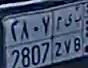0: (30, 24, 41, 66)
2: (9, 20, 22, 68)
7: (40, 15, 51, 65)
8: (20, 20, 30, 67)
B: (71, 14, 82, 54)
V: (63, 13, 73, 55)
Z: (54, 15, 63, 59)
